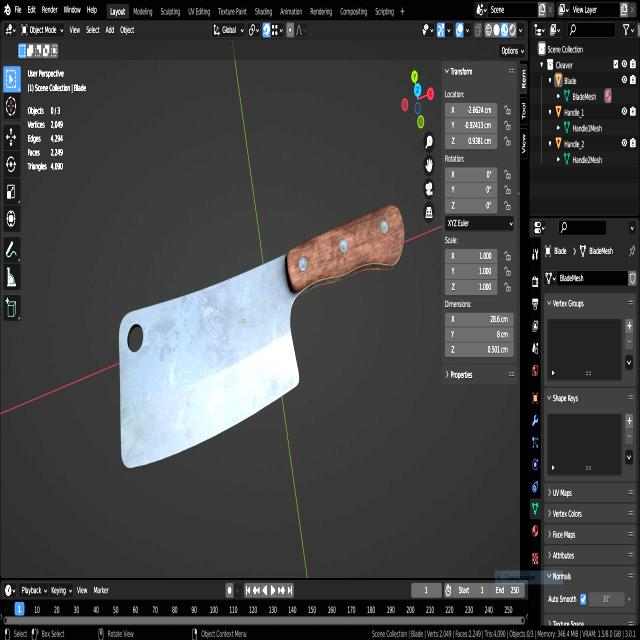cleaver: (119, 201, 405, 468)
